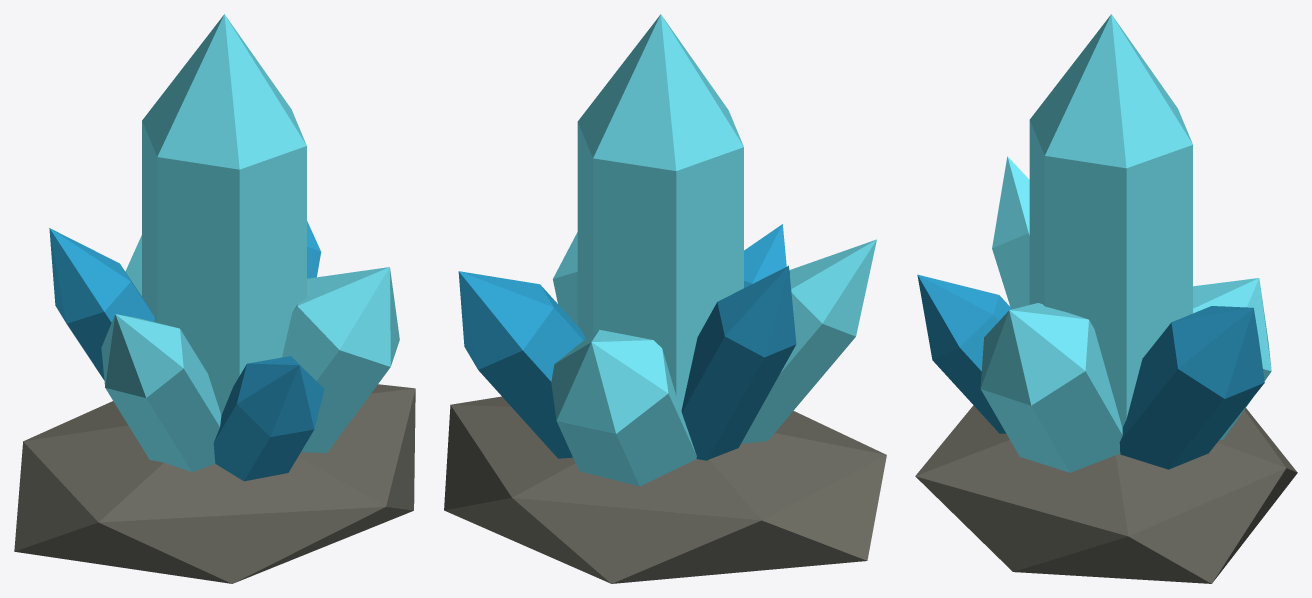
Rendered from DiamondCrystals.fbx.
3 views of the same model, side by side, from view 1: azimuth 30°, elevation 25°; view 2: azimuth 150°, elevation 25°; view 3: azimuth 270°, elevation 25° (orthographic).
Visible parts, largest first — view 1: DiamondCrystals; view 2: DiamondCrystals; view 3: DiamondCrystals.
Boxes of the visible parts, bbox=[...] form: DiamondCrystals: bbox=[14, 14, 415, 583]; DiamondCrystals: bbox=[444, 14, 886, 583]; DiamondCrystals: bbox=[915, 14, 1297, 583].
Bounding box in the file's own units: 2.68 × 3.3 × 2.2.
1 material, 1 textured.
